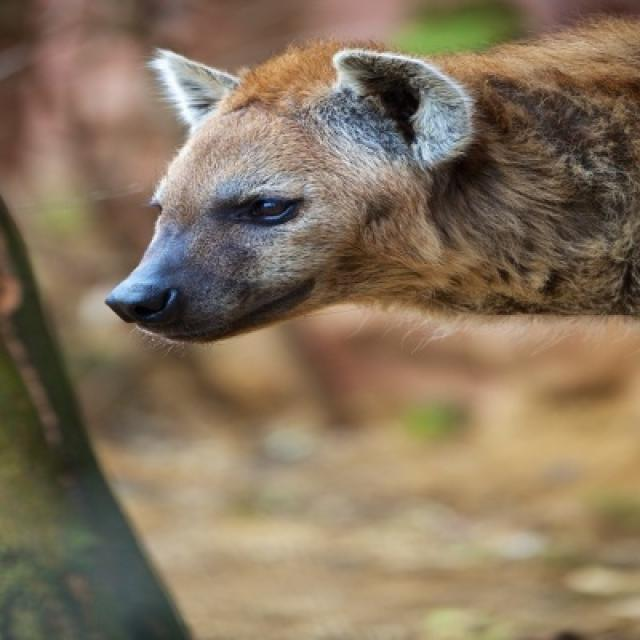hyena: (104, 13, 638, 347)
